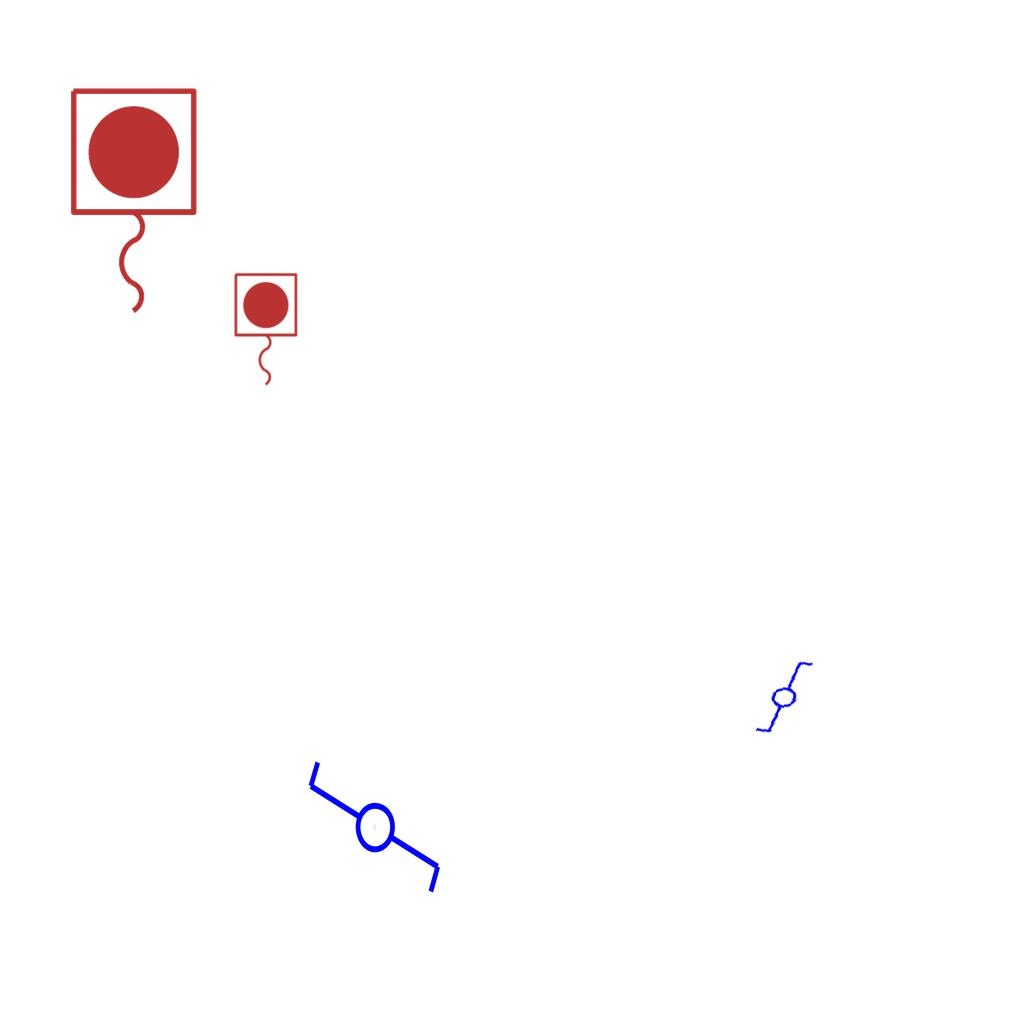Wechselschalter: (301, 757, 445, 914), (736, 655, 824, 739)
Zugtaster: (60, 80, 204, 324), (229, 269, 301, 391)
